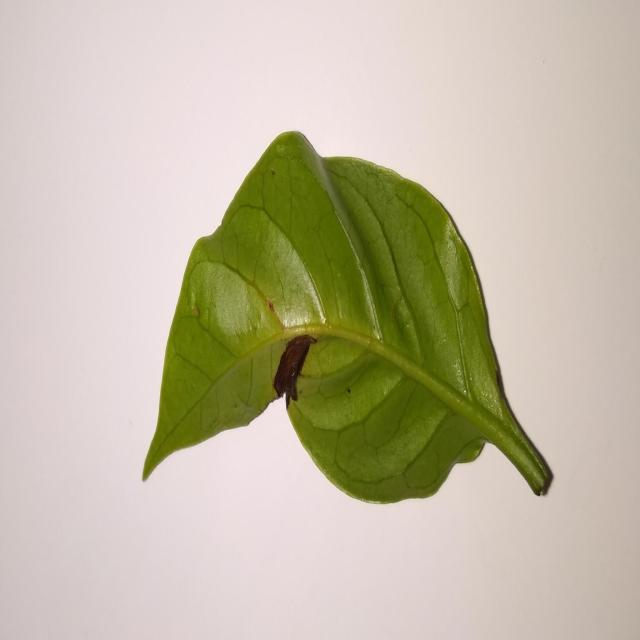Enfermedad-Antracnosis: (141, 131, 554, 507)
